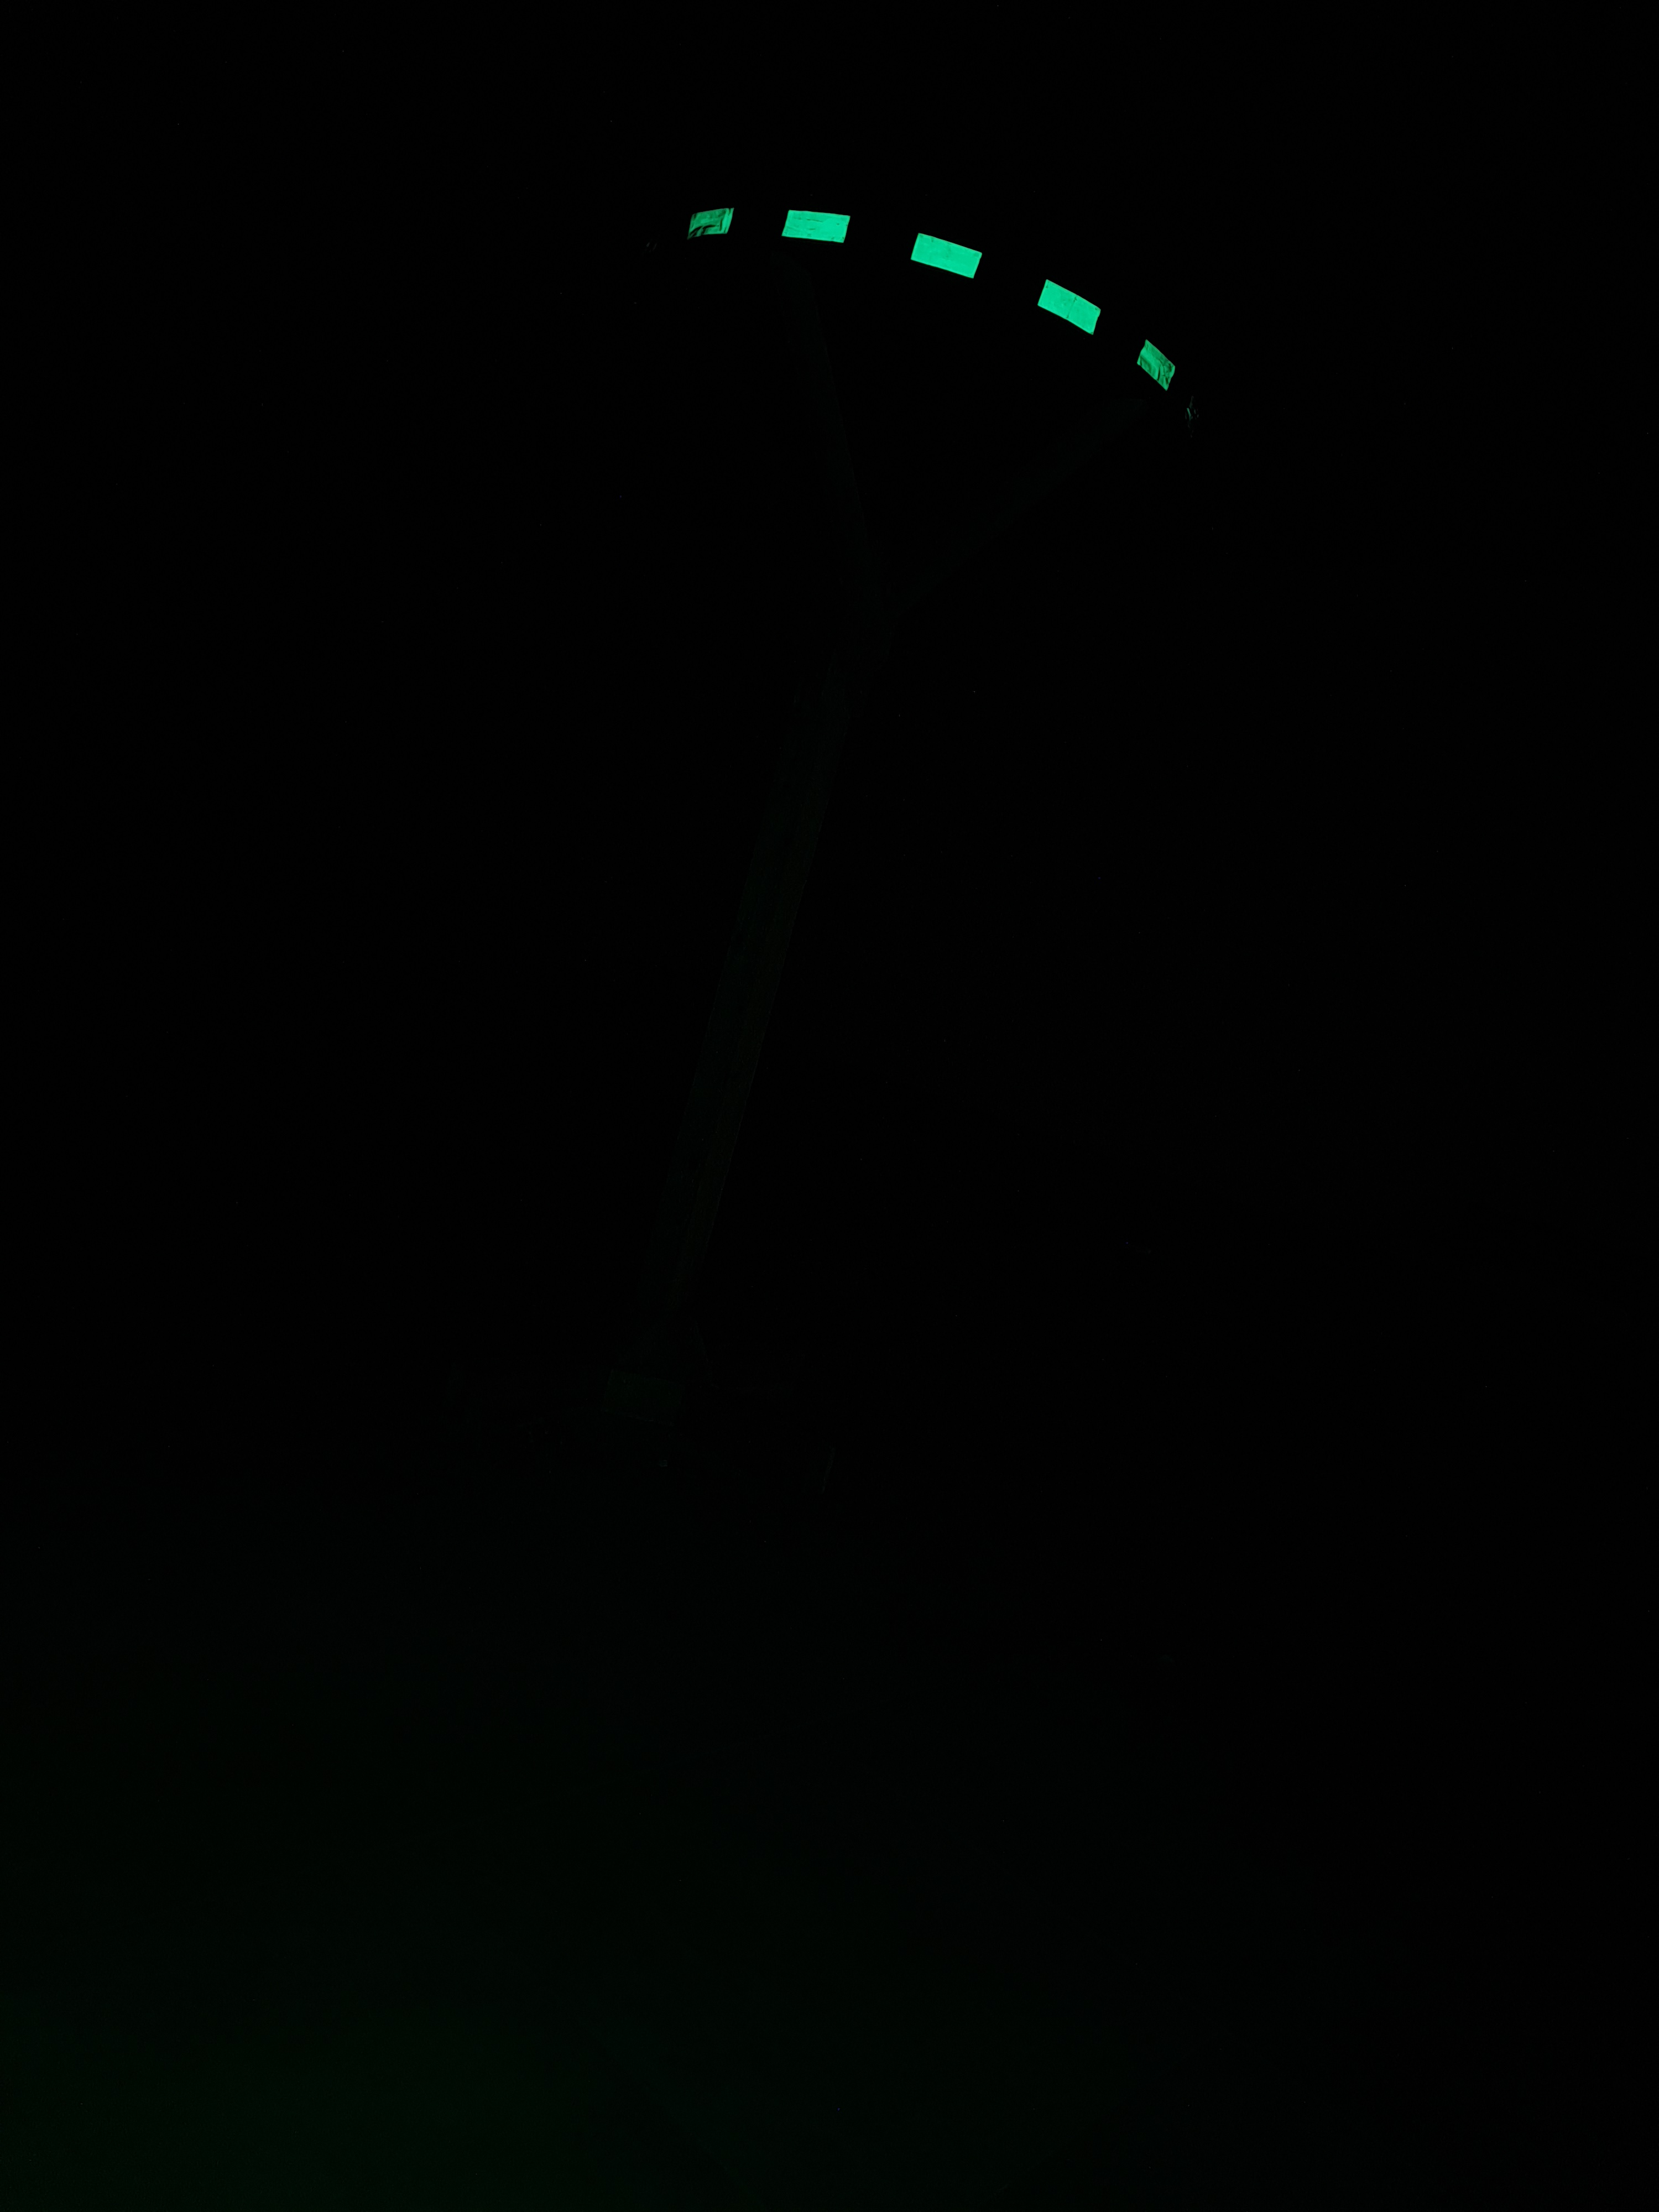hoop: (688, 199, 1178, 399)
